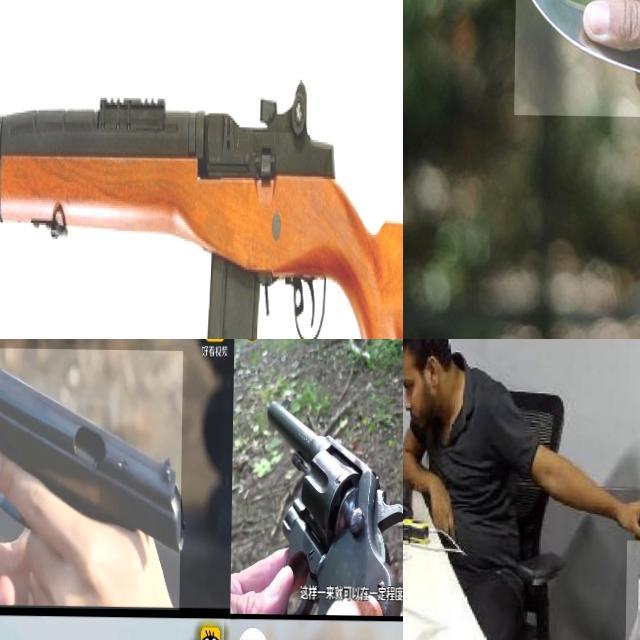-: (515, 0, 640, 116), (627, 539, 640, 640)
gun-knife-thesis - v11 Yolov5 augmented: (0, 3, 403, 339), (0, 347, 183, 609), (257, 392, 403, 613)
